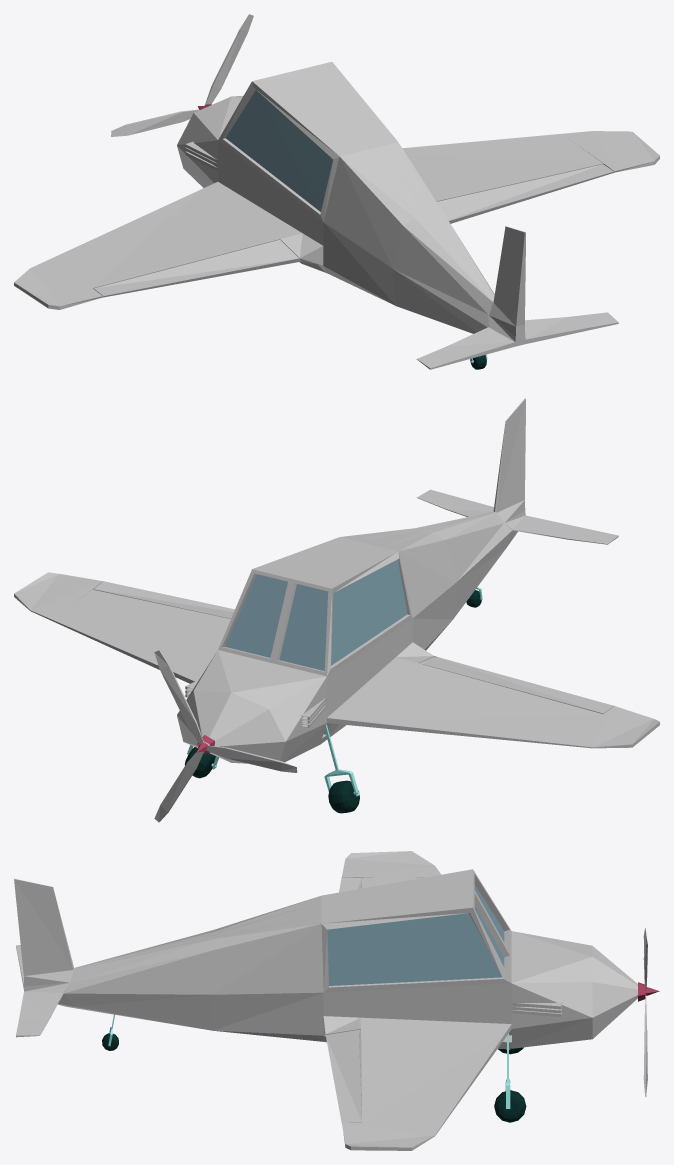
3 renders of one model, top to bottom at view 1: azimuth 30°, elevation 25°; view 2: azimuth 150°, elevation 25°; view 3: azimuth 270°, elevation 25°, orthographic.
Visible parts, largest first — view 1: Cube_2, Cube:1, Cube:0; view 2: Cube_2, Cube:1, Cube:0, Cube:2, Wheel_2; view 3: Cube_2, Wheel_1.
Boxes of the visible parts, bbox=[...] form: Cube_2: bbox=[14, 62, 659, 369]; Cube:1: bbox=[204, 14, 253, 105]; Cube:0: bbox=[111, 109, 199, 136]; Cube_2: bbox=[14, 398, 659, 763]; Cube:1: bbox=[154, 650, 204, 744]; Cube:0: bbox=[207, 745, 297, 772]; Cube:2: bbox=[154, 751, 203, 822]; Wheel_2: bbox=[328, 780, 359, 813]; Cube_2: bbox=[14, 851, 637, 1150]; Wheel_1: bbox=[494, 1090, 526, 1122].
Bounding box in the file's own units: 869 × 285 × 799.
